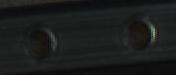joints: (117, 12, 157, 53), (19, 22, 58, 62)
